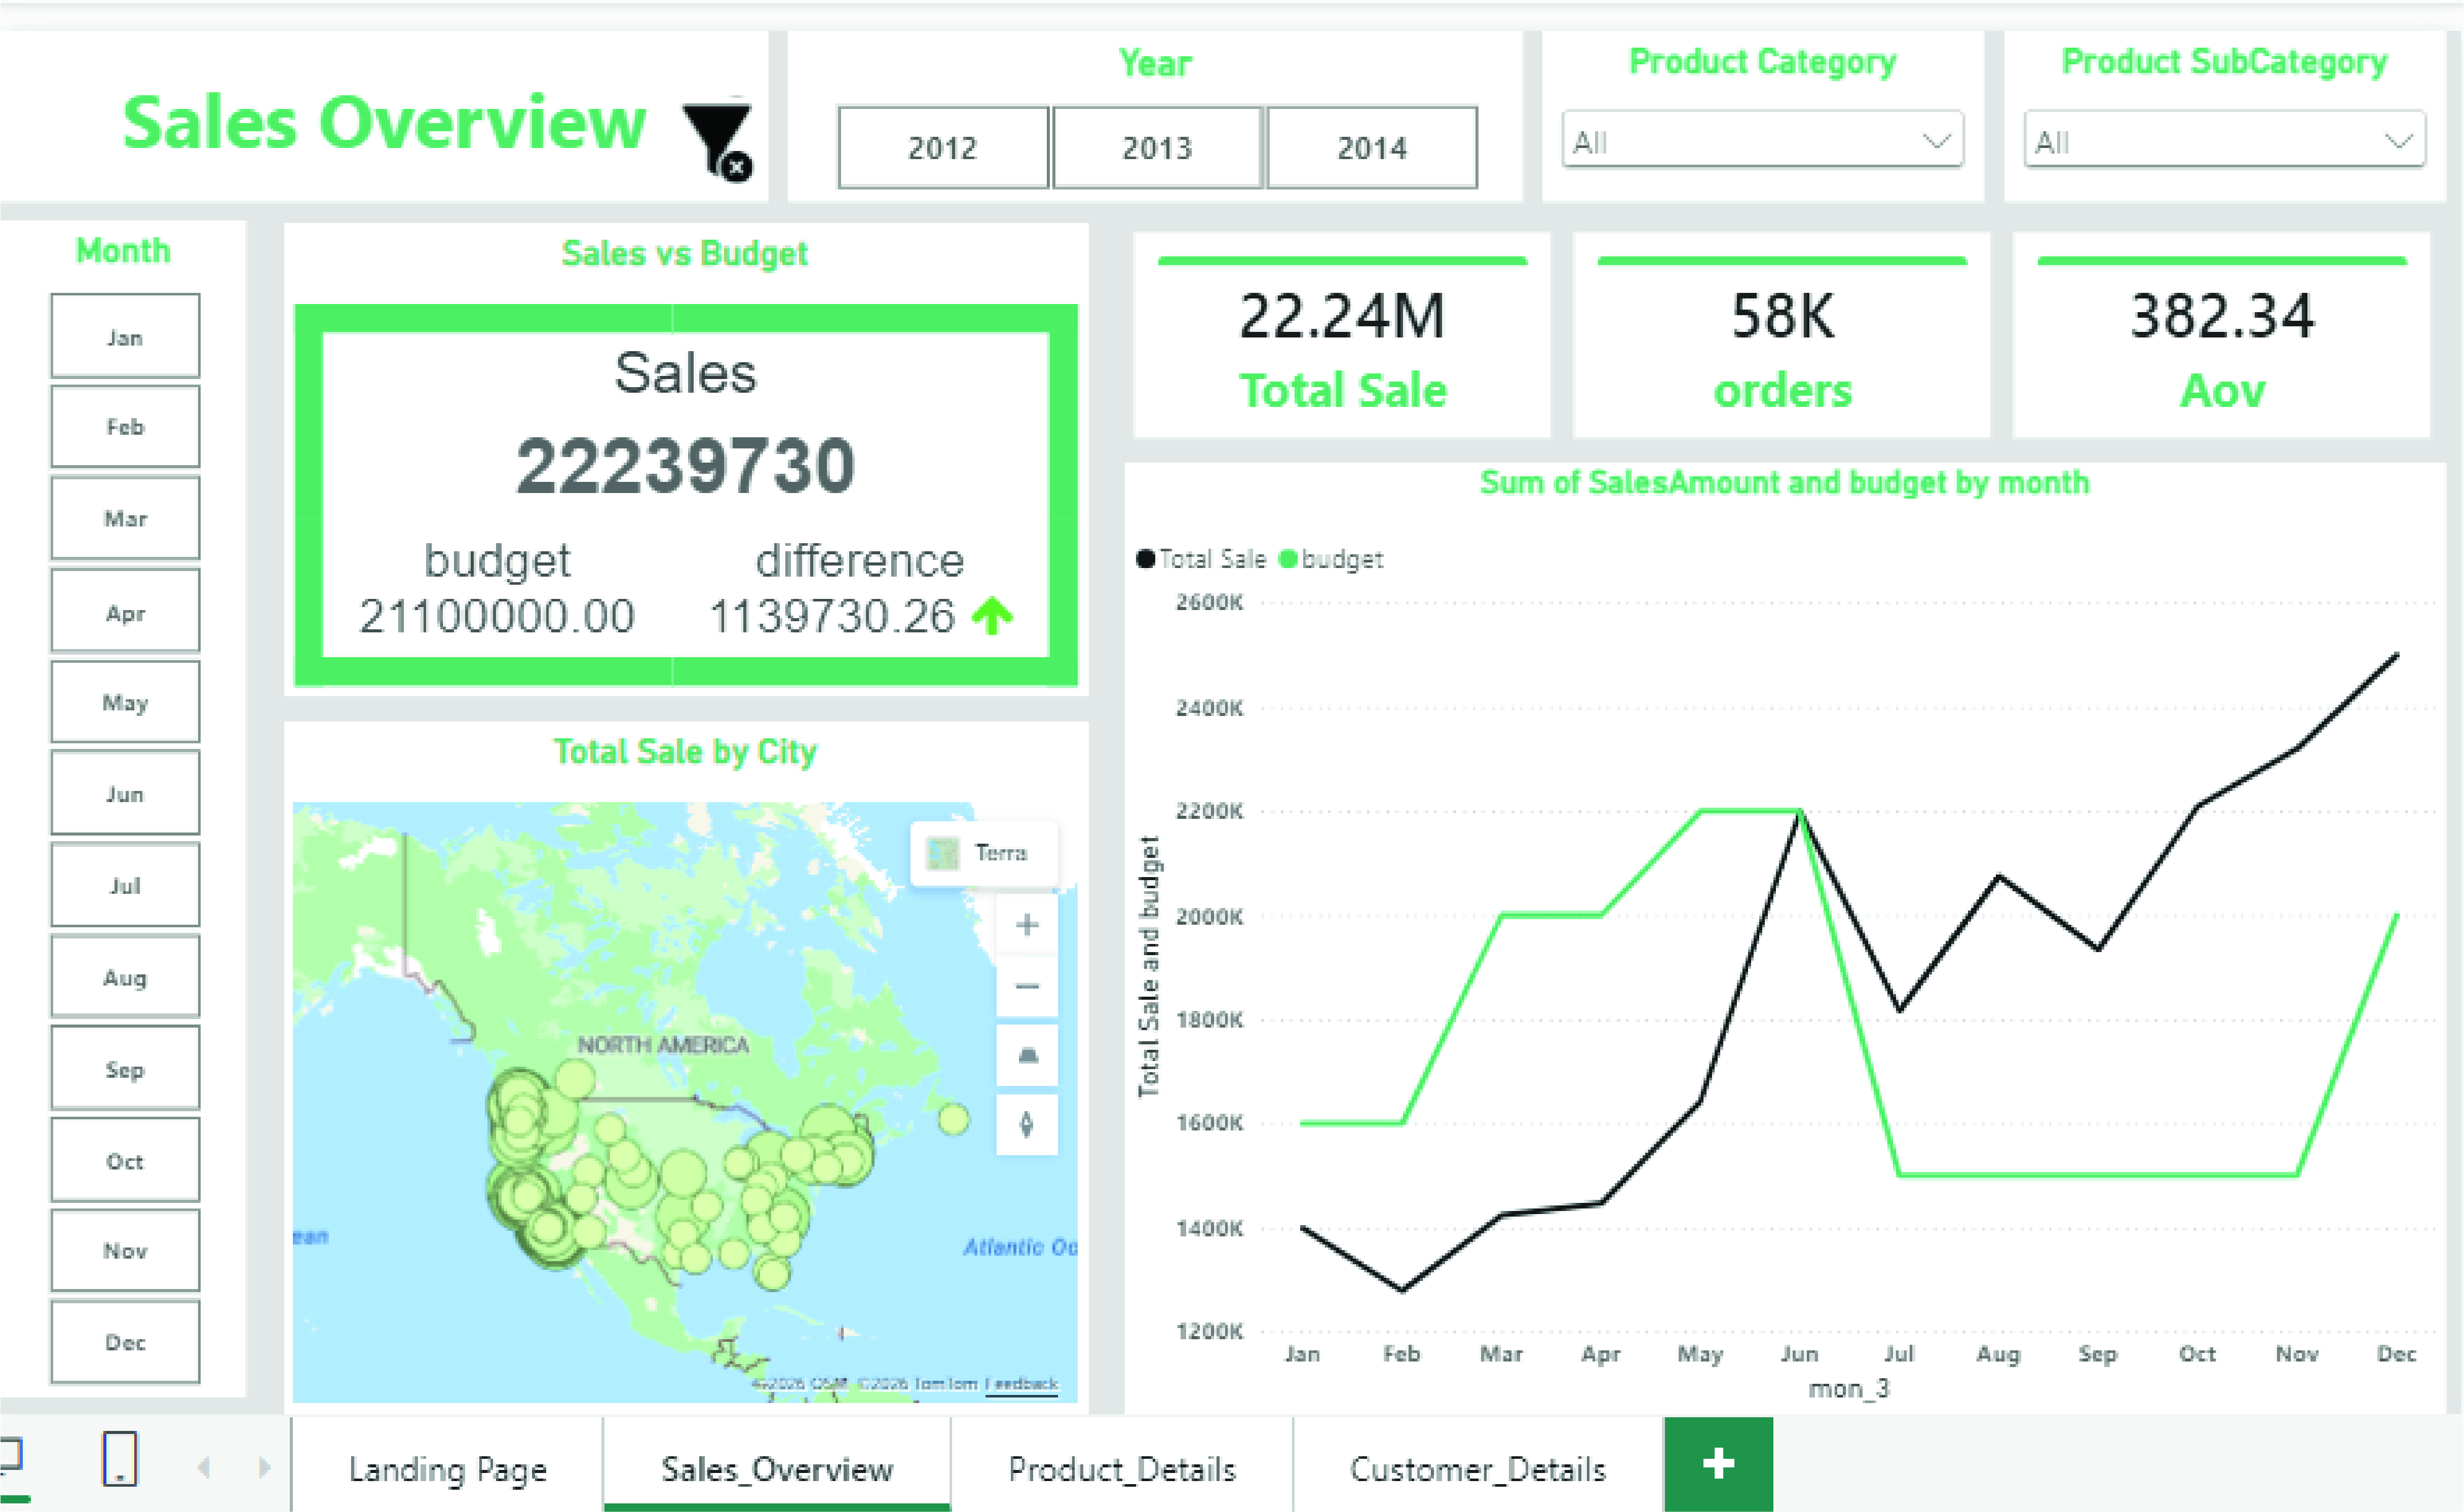

The dashboard page shown, as its layout file describes it:
{"tool":"powerbi","page":{"name":"Sales_Overview","canvas":[1280,720],"ordinal":1},"visuals":[{"type":"slicer","title":"Year","fields":{"Values":["Dim_Date.year"]},"box":[410,0,383,89],"z":0},{"type":"slicer","title":"Month","fields":{"Values":["Dim_Date.mon_3"]},"box":[0,99,128,613],"z":1000},{"type":"actionButton","title":"Sales Overview","box":[0,0,399.8,89],"z":2000},{"type":"slicer","title":"Product Category","fields":{"Values":["Dim-Product.ProductCategory"]},"box":[803,0,230,89],"z":3000},{"type":"slicer","title":"Product SubCategory","fields":{"Values":["Dim-Product.ProductSubcategory"]},"box":[1043,0,230,89],"z":4000},{"type":"azureMap","fields":{"Category":["Dim-Customers.City"],"Size":["measure.sales"]},"box":[148,360,418,360],"z":5000},{"type":"BBED0A4D4D8D44CE93CF2DAFADEE466C","title":"Sales  vs Budget ","fields":{"actual":["measure.sales"],"target1":["measure.budget"],"target2":["measure.sale-budget"]},"box":[148,100,418,246],"z":6000},{"type":"lineChart","title":"Sum of SalesAmount and budget by month","fields":{"Category":["Dim_Date.mon_3"],"Y":["measure.Total Sale","measure.budget"]},"box":[586,224,688,496],"z":7000},{"type":"cardVisual","fields":{"Data":["measure.sales"]},"box":[585.7,99.5,227.1,117.1],"z":8000},{"type":"cardVisual","fields":{"Data":["measure.orders"]},"box":[814.9,99.5,227.1,117.1],"z":9000},{"type":"cardVisual","fields":{"Data":["measure.Aov"]},"box":[1044,99.5,227.1,117.1],"z":10000},{"type":"actionButton","box":[346.7,26.7,53.3,61.7],"z":11000}]}

Visuals, with their boxes on the page's 1280x720 design canvas (x1, y1, x2, y2). These are canvas units, not pixel positions in the 2464x1512 screenshot, which may show the page scaled, cropped or inside an application window:
"Year" slicer: x1=410, y1=0, x2=793, y2=89
"Month" slicer: x1=0, y1=99, x2=128, y2=712
"Sales Overview" actionButton: x1=0, y1=0, x2=400, y2=89
"Product Category" slicer: x1=803, y1=0, x2=1033, y2=89
"Product SubCategory" slicer: x1=1043, y1=0, x2=1273, y2=89
azureMap - Dim-Customers.City x measure.sales: x1=148, y1=360, x2=566, y2=720
"Sales  vs Budget " BBED0A4D4D8D44CE93CF2DAFADEE466C: x1=148, y1=100, x2=566, y2=346
"Sum of SalesAmount and budget by month" lineChart: x1=586, y1=224, x2=1274, y2=720
cardVisual - measure.sales: x1=586, y1=100, x2=813, y2=217
cardVisual - measure.orders: x1=815, y1=100, x2=1042, y2=217
cardVisual - measure.Aov: x1=1044, y1=100, x2=1271, y2=217
actionButton: x1=347, y1=27, x2=400, y2=88
